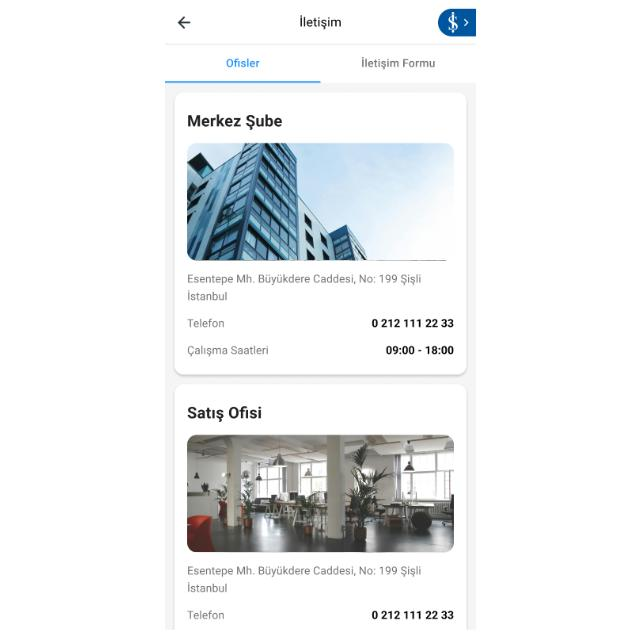QLabel: (183, 272, 424, 286), (183, 564, 421, 578), (181, 112, 283, 130), (182, 342, 270, 360), (182, 404, 262, 421), (365, 316, 455, 330), (382, 342, 456, 358), (355, 56, 437, 70), (368, 609, 454, 621), (296, 14, 342, 32), (215, 55, 263, 71), (182, 581, 230, 595), (186, 608, 224, 624), (183, 290, 229, 302), (184, 316, 223, 330)
VAppBar: (164, 0, 476, 46)
VCard: (173, 91, 467, 377), (174, 382, 468, 640)
VIcon: (174, 14, 192, 32)
VImg: (184, 435, 453, 553), (186, 144, 454, 260), (438, 9, 476, 37)
VTabs: (164, 46, 476, 640)
